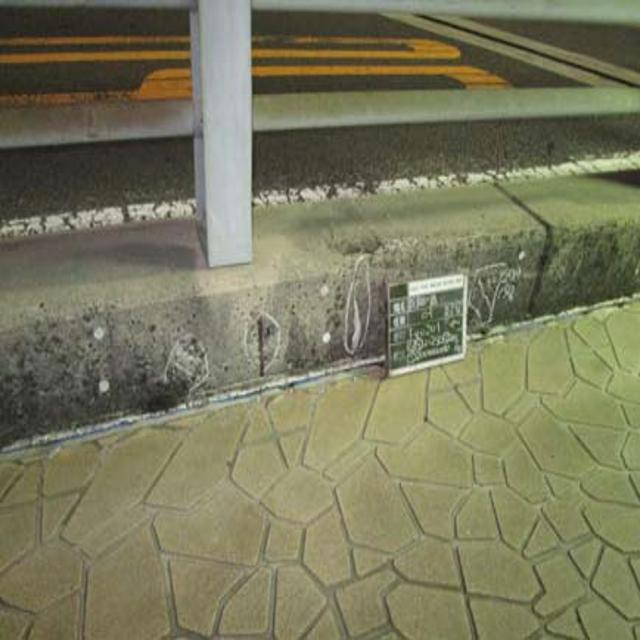spalling: (146, 327, 220, 400), (239, 307, 294, 379)
